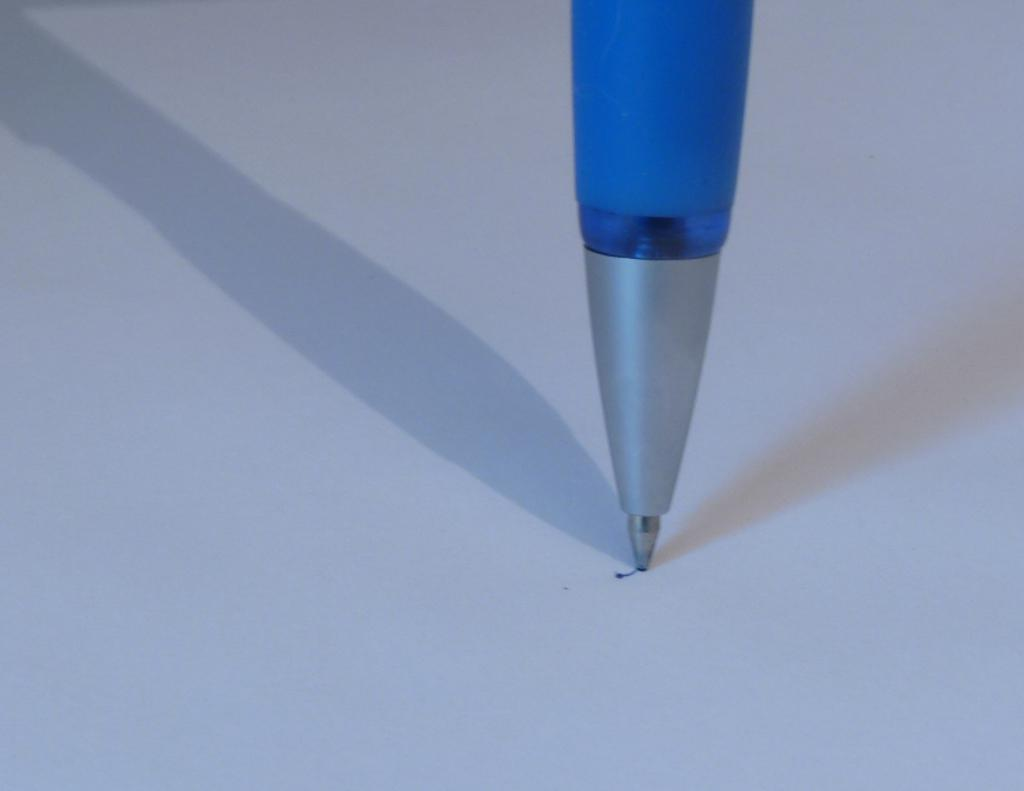pen: (565, 0, 751, 572)
